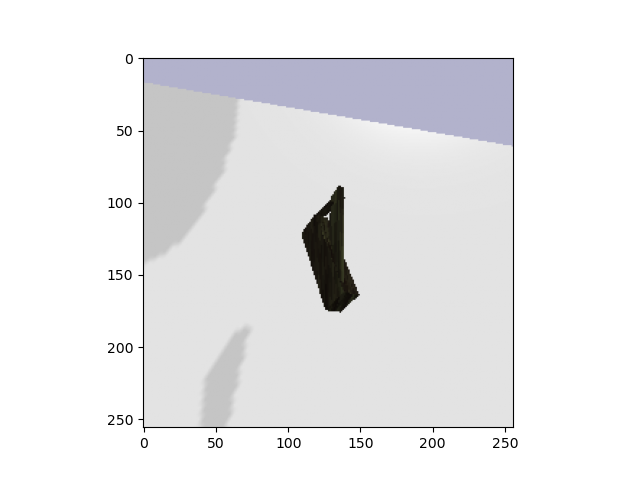v249b387_109: (291, 178, 370, 320)
